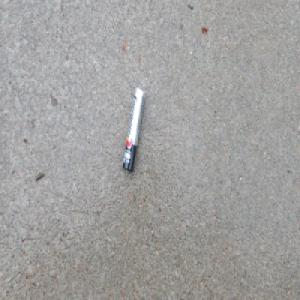Battery: (121, 85, 145, 175)
